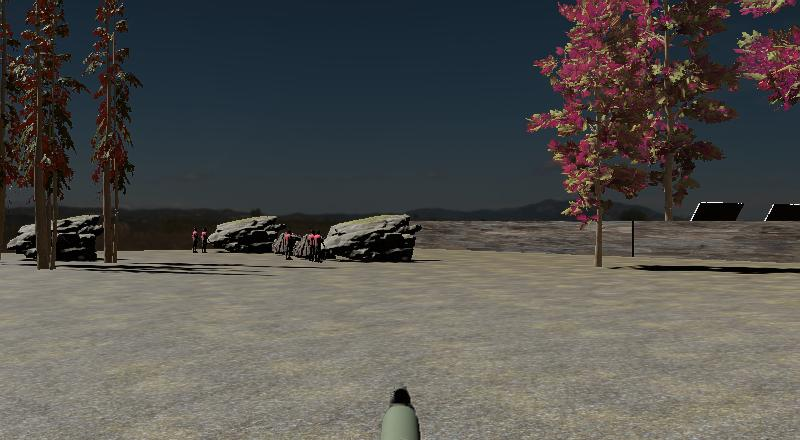Human: (312, 229, 325, 263), (284, 229, 297, 261), (314, 230, 326, 263), (283, 228, 295, 260), (303, 230, 315, 261)
